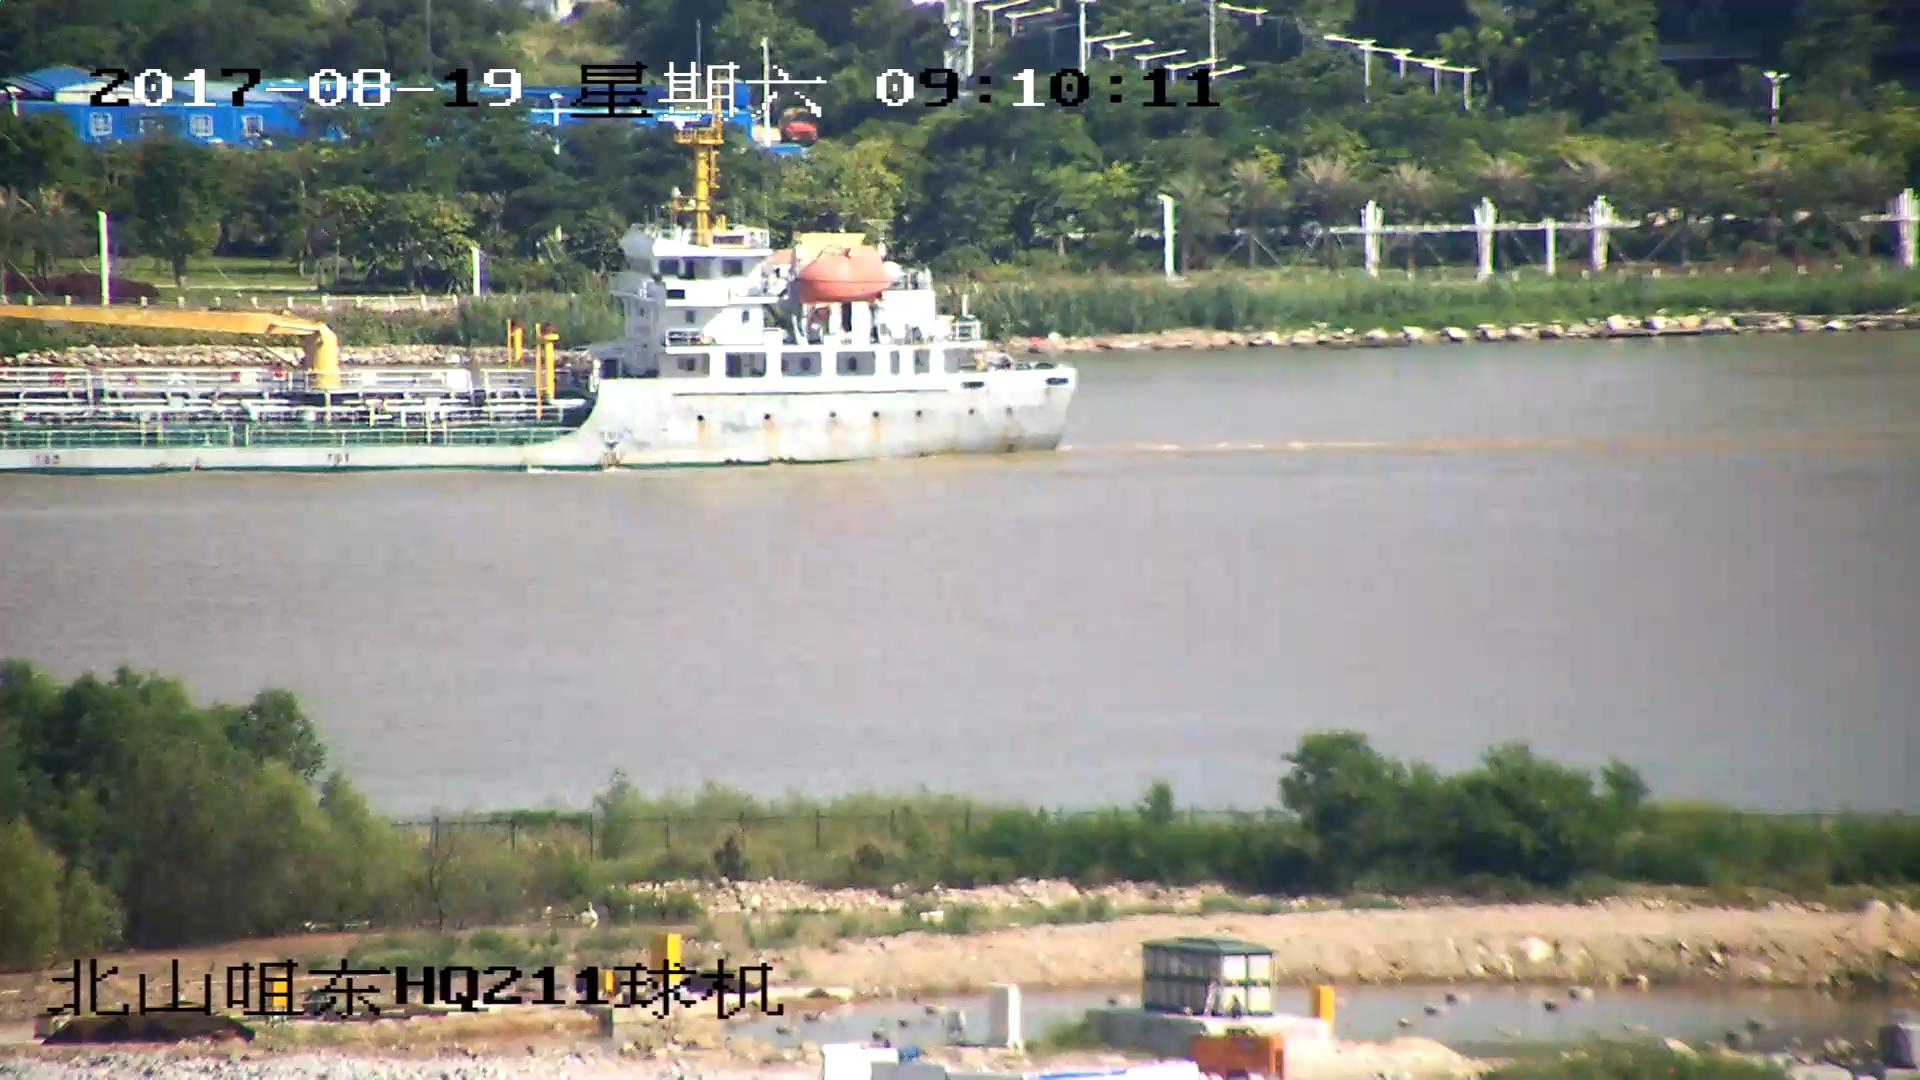general cargo ship: (1, 129, 1085, 468)
